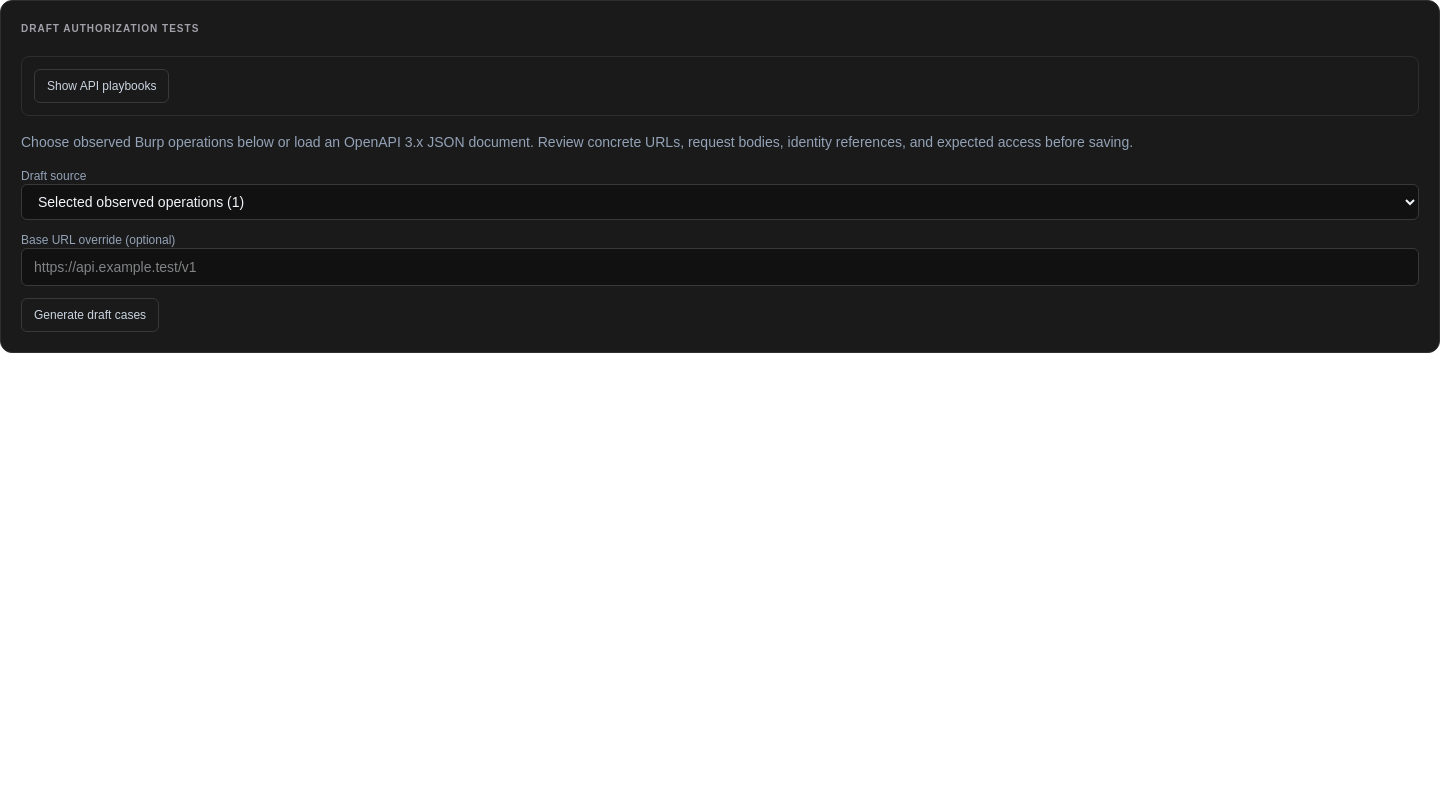
AuthorizationCaseBuilder identity review › shows declared access and only the credential source for each identity
What coordinates should you click on to do the following:
click the button "Generate draft cases"
I would click on:
 (90, 315)
Its box is [21, 298, 159, 332].
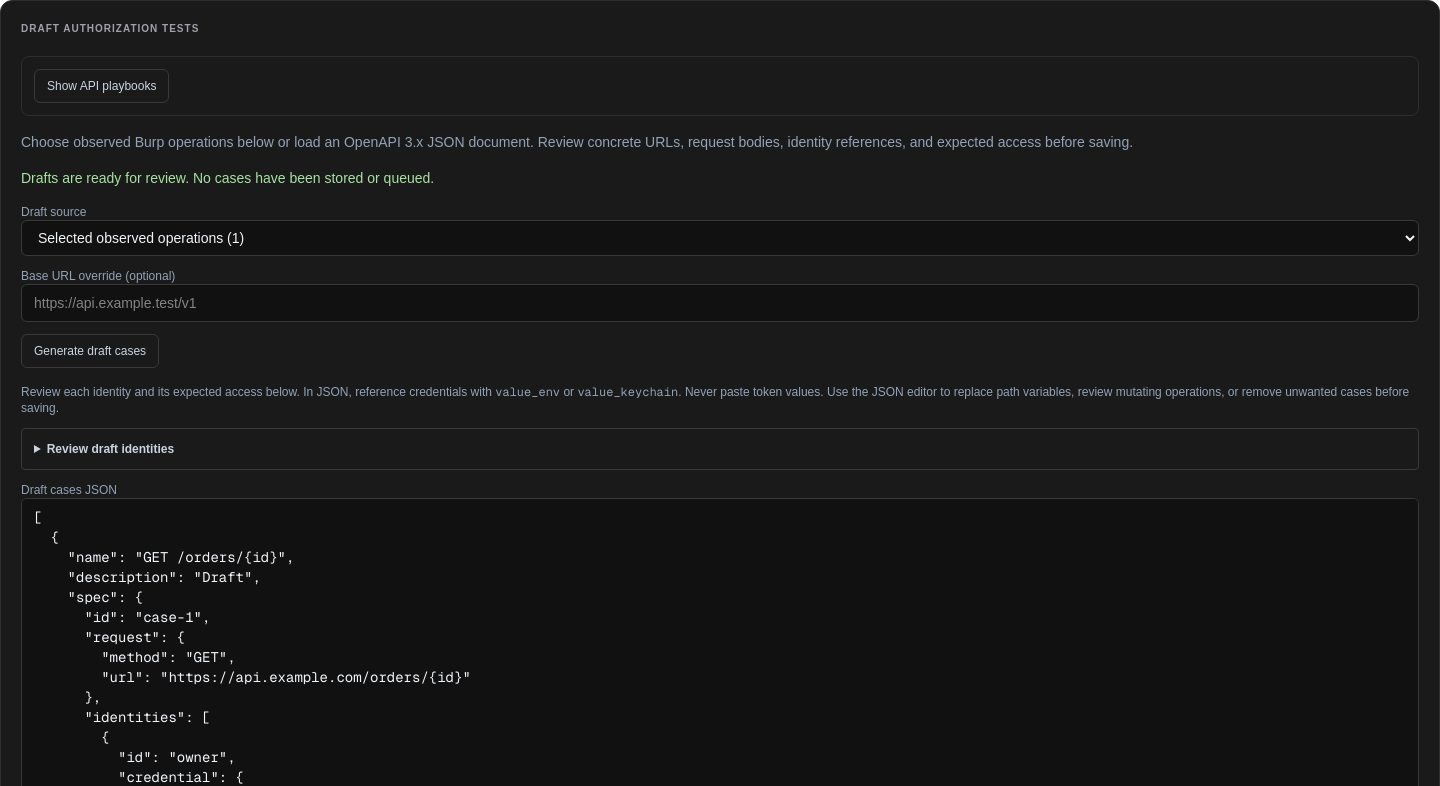
What coordinates should you click on to do the following:
click the heading "Review draft identities"
I would click on:
 (110, 449)
Its box is [47, 442, 174, 456].
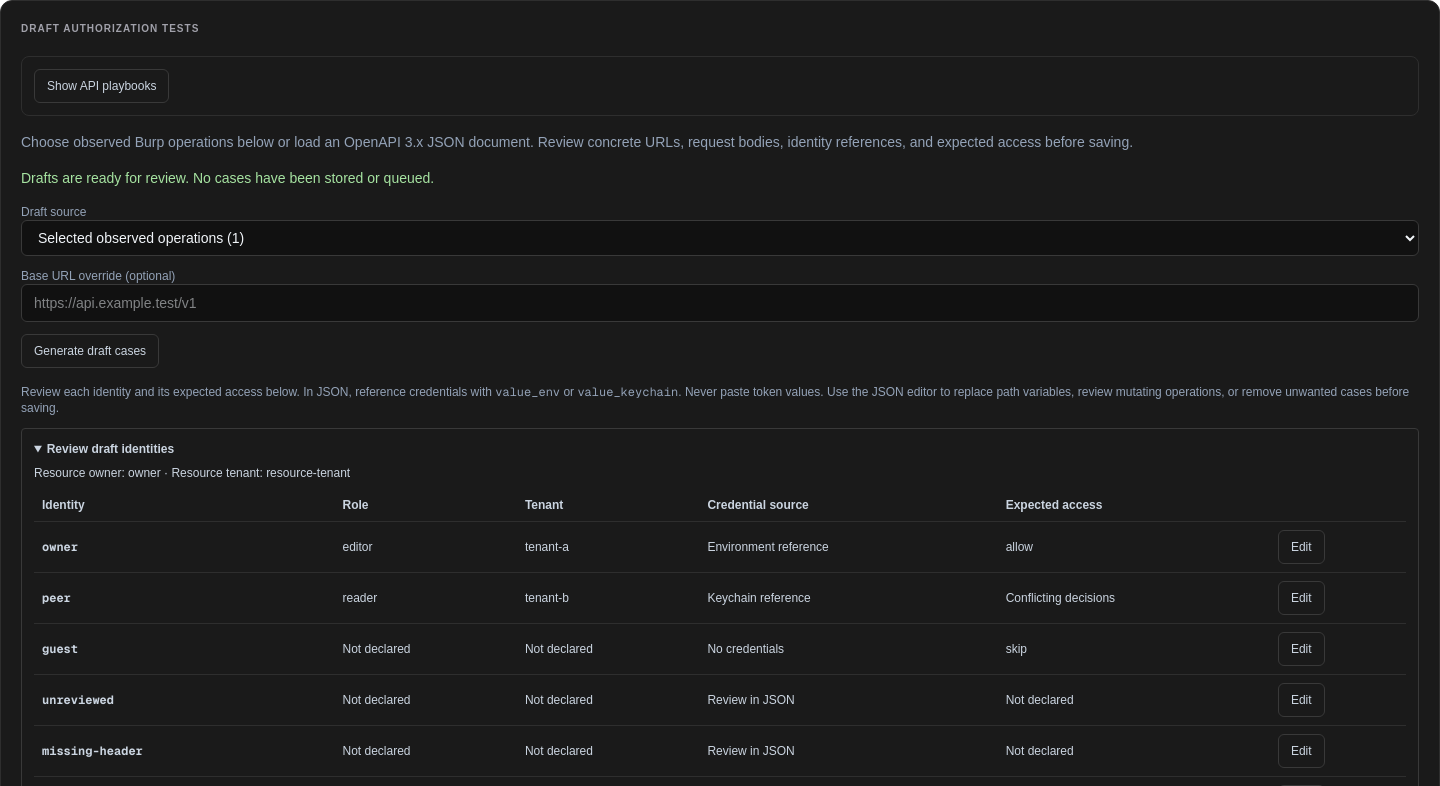
Expected: the text "Resource owner: owner · Resource tenant: resource-tenant" is shown, [34, 466, 350, 480]
Expected: the cells read "editor", "tenant-a", "Environment reference", "allow", "Edit", in this order, [334, 522, 517, 572]; [517, 522, 699, 572]; [699, 522, 998, 572]; [998, 522, 1270, 572]; [1270, 522, 1406, 572]
Expected: the cells read "reader", "tenant-b", "Keychain reference", "Conflicting decisions", "Edit", in this order, [334, 572, 517, 624]; [517, 572, 699, 624]; [699, 572, 998, 624]; [998, 572, 1270, 624]; [1270, 572, 1406, 624]
